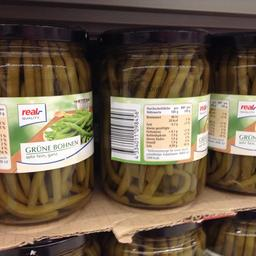beans: (100, 26, 210, 212), (0, 23, 91, 225), (209, 20, 255, 196)
